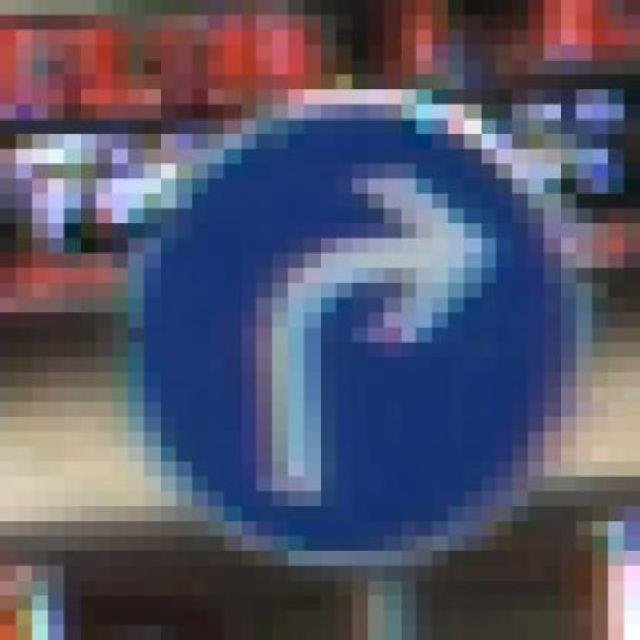Turn right ahead: (96, 74, 609, 566)
